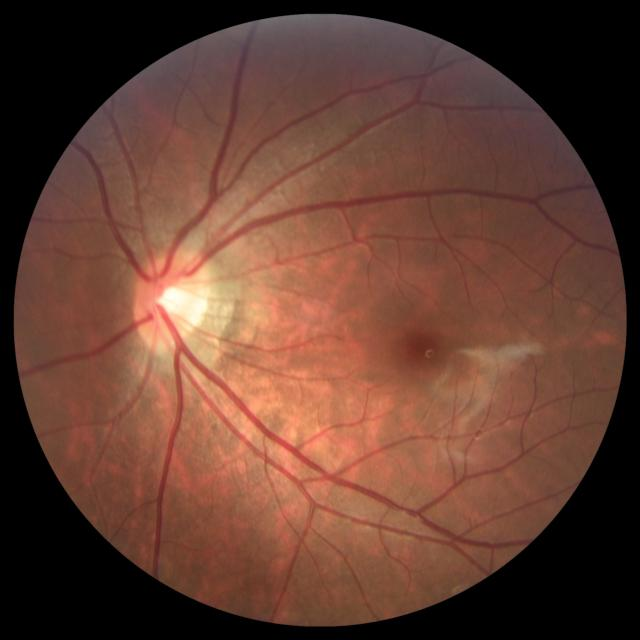OC: (151, 280, 196, 320)
OD: (133, 247, 210, 351)
